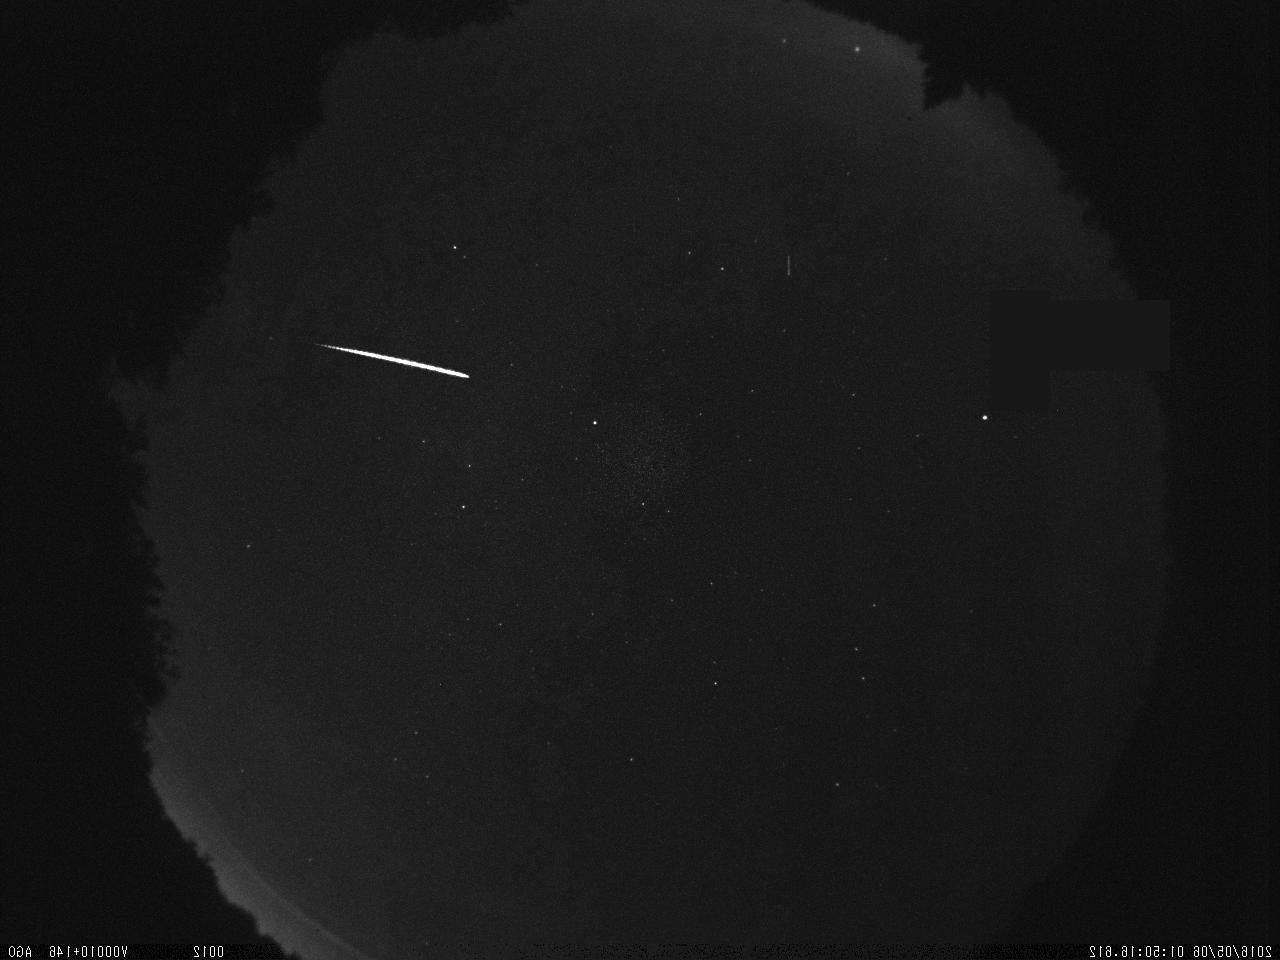meteor: (286, 308, 526, 401)
